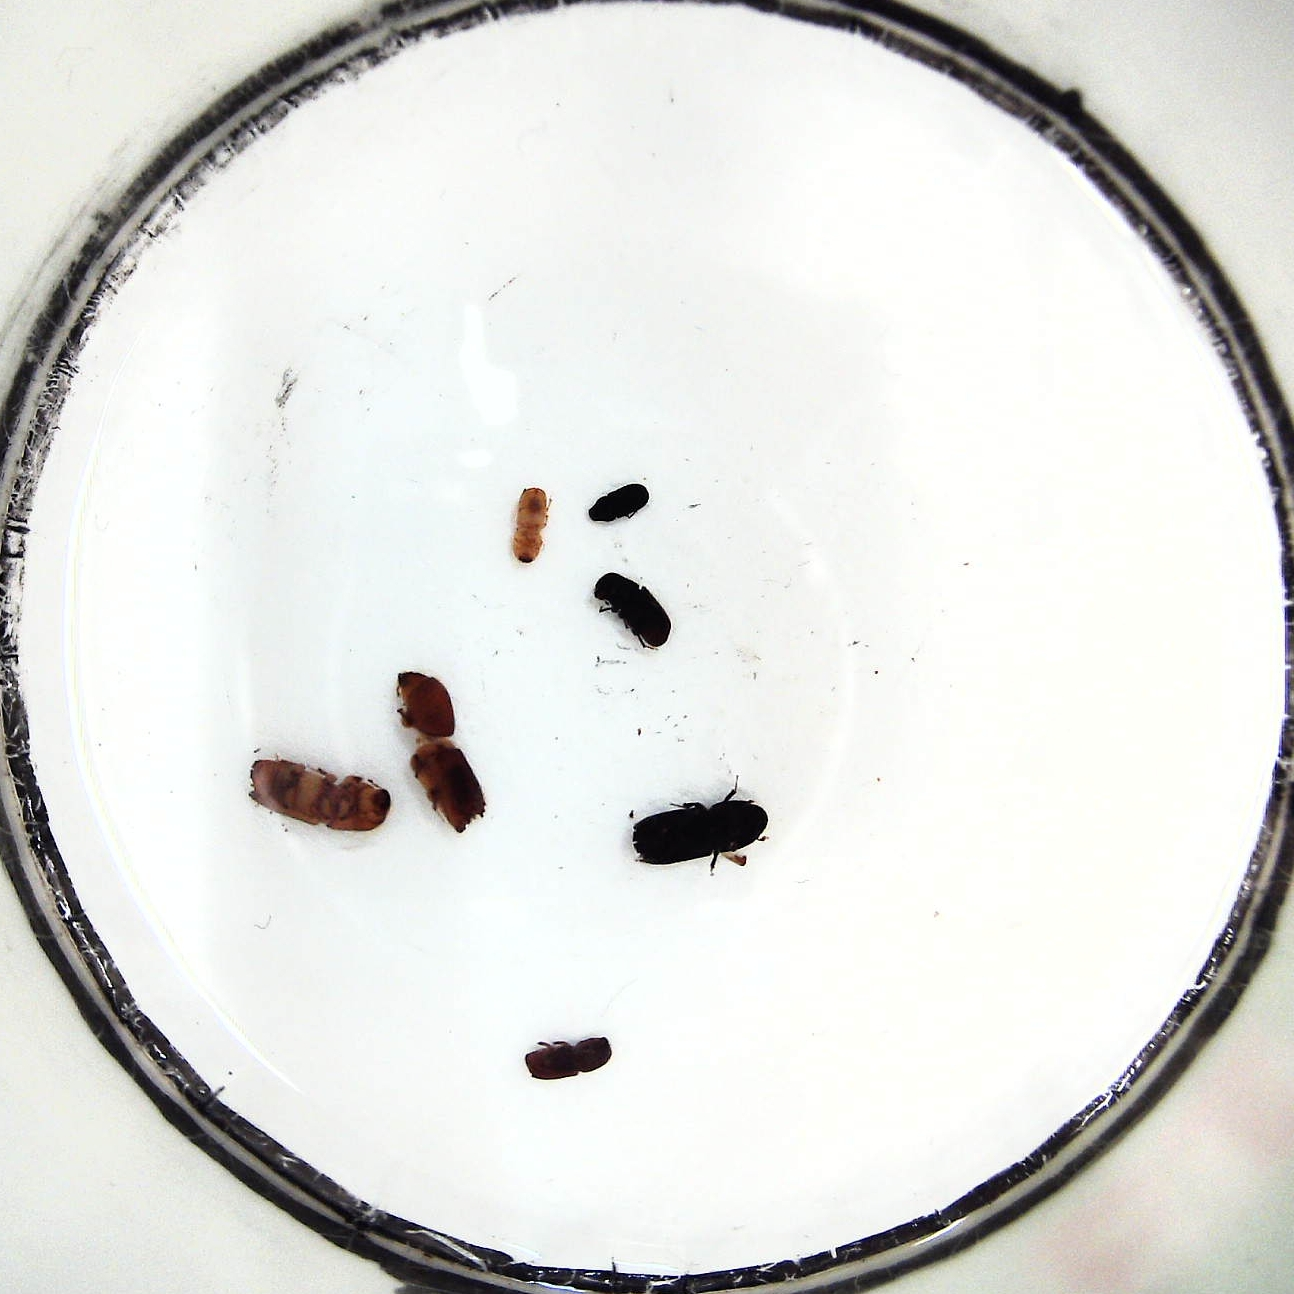Boerner: (396, 668, 487, 835), (246, 760, 391, 832), (630, 797, 771, 869)
Linnaeus: (523, 1034, 615, 1081)
acuminatus: (508, 486, 553, 566)
armandi: (592, 570, 670, 648)
coleoptera: (587, 481, 652, 525)
